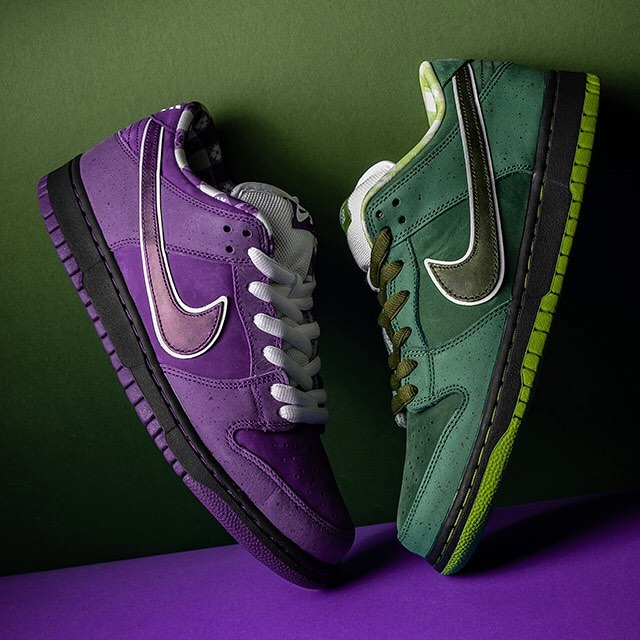Nike SB Dunk Green Lobster: (332, 29, 612, 587)
